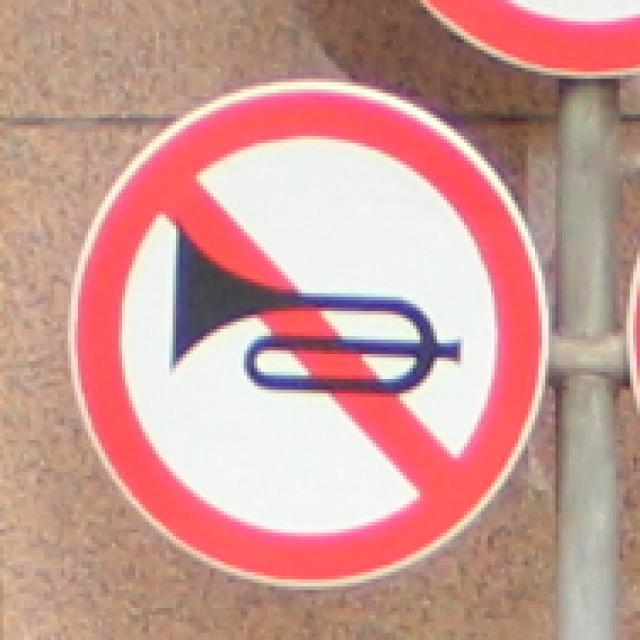No Horn: (71, 81, 549, 587)
